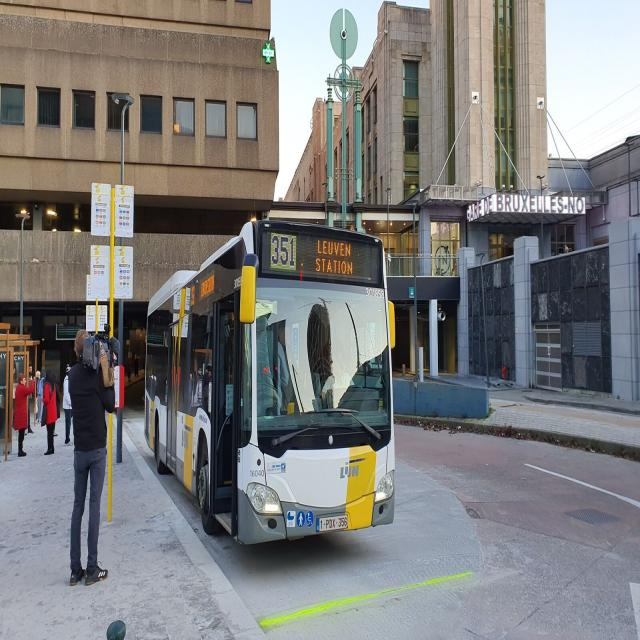bus-number: (270, 233, 298, 270)
